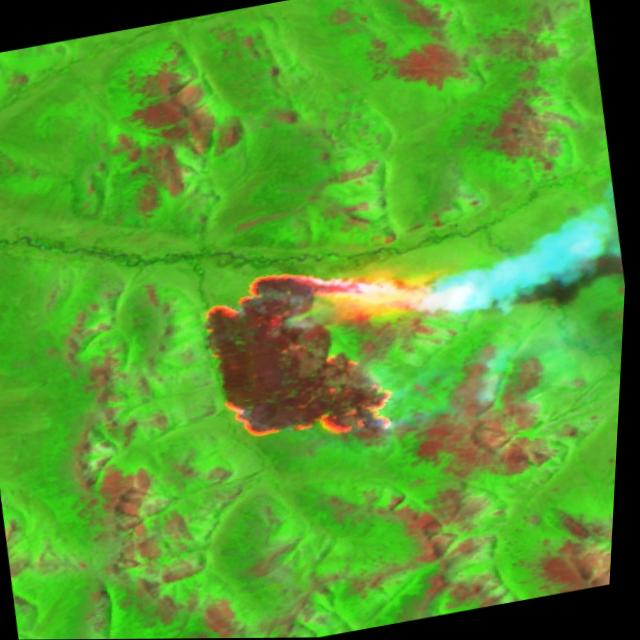fire: (188, 238, 468, 467)
